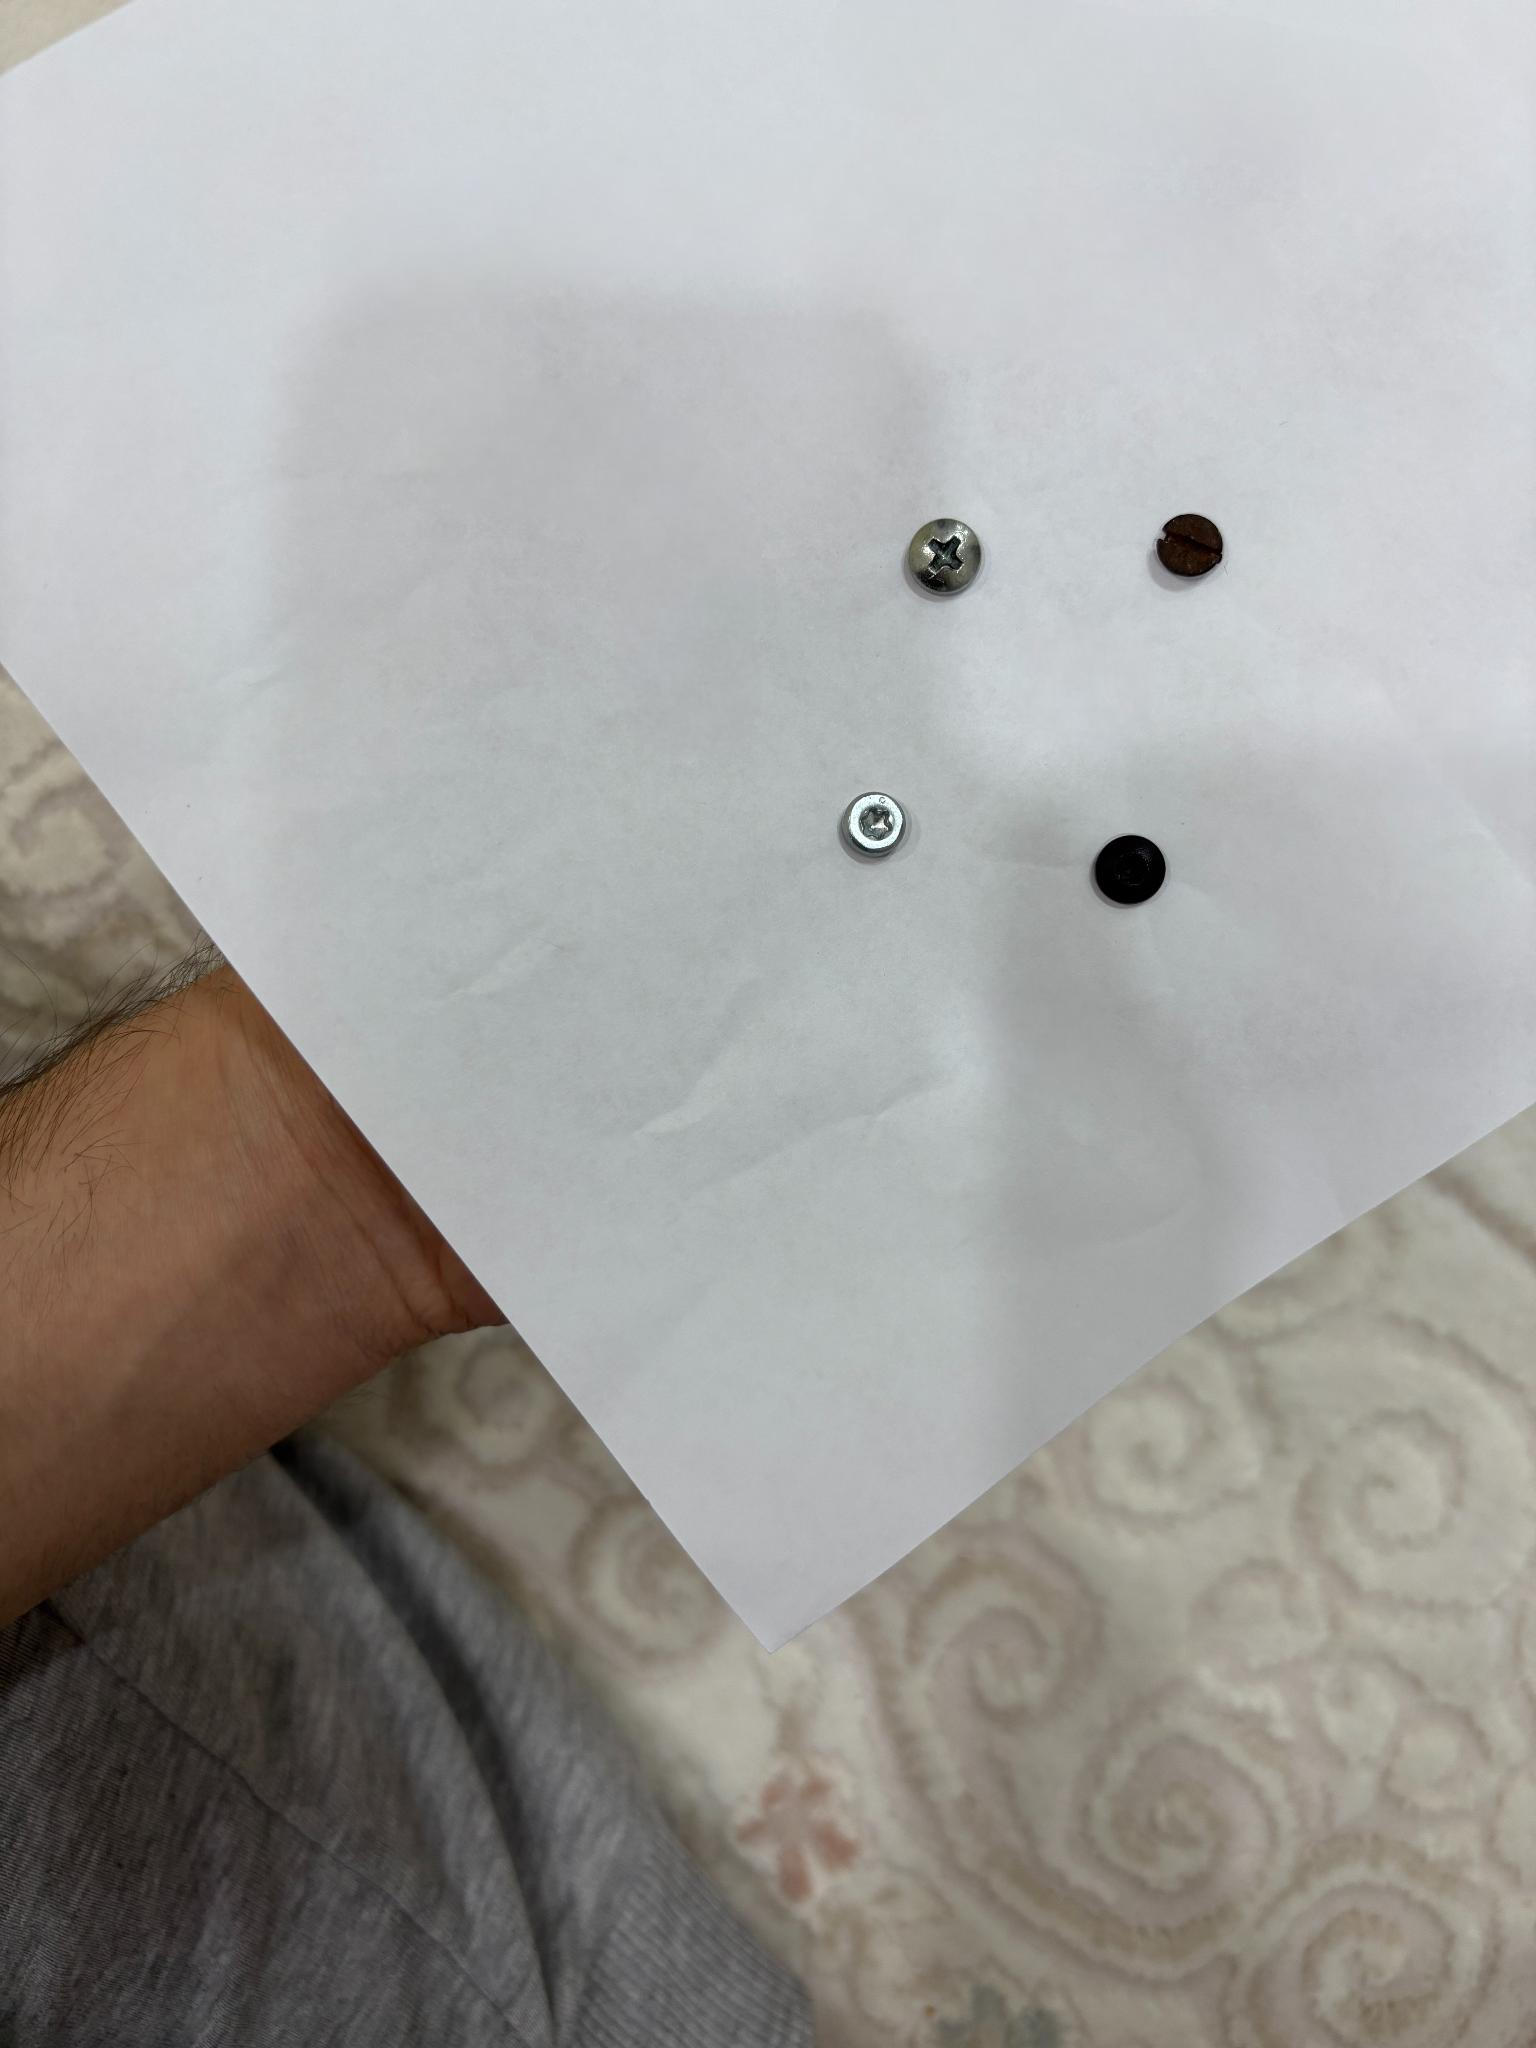H: (1094, 835, 1165, 905)
PH: (908, 518, 983, 593)
SL: (1157, 514, 1223, 577)
T: (841, 792, 905, 858)
